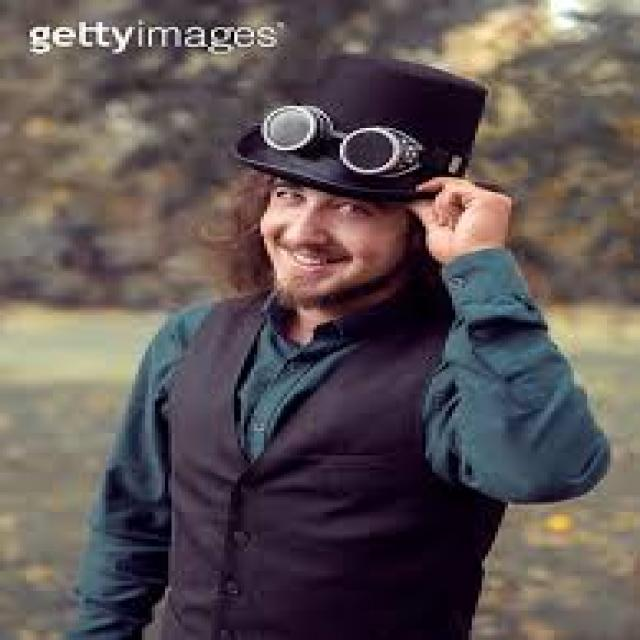hat: (228, 49, 492, 305)
